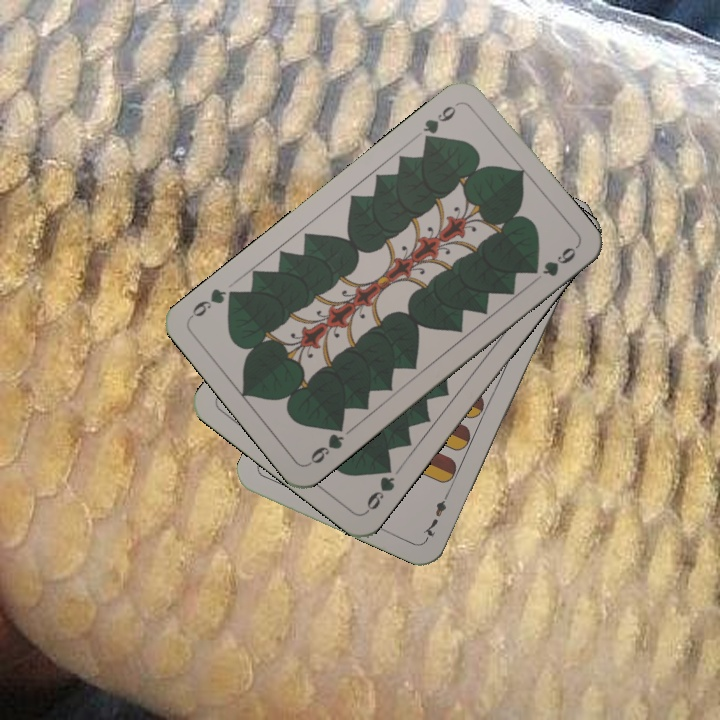E7: (418, 486, 452, 542)
G9: (418, 98, 462, 147), (304, 418, 347, 468), (361, 459, 398, 516)
